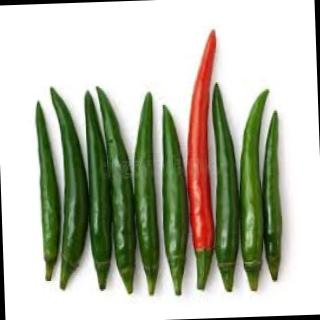Cabai Hijau: (87, 88, 136, 287), (55, 87, 92, 294), (237, 88, 274, 287), (159, 97, 193, 295), (131, 94, 164, 296), (211, 95, 244, 292), (262, 112, 289, 277), (35, 103, 59, 281)
Cabai Merah: (180, 29, 225, 262)
